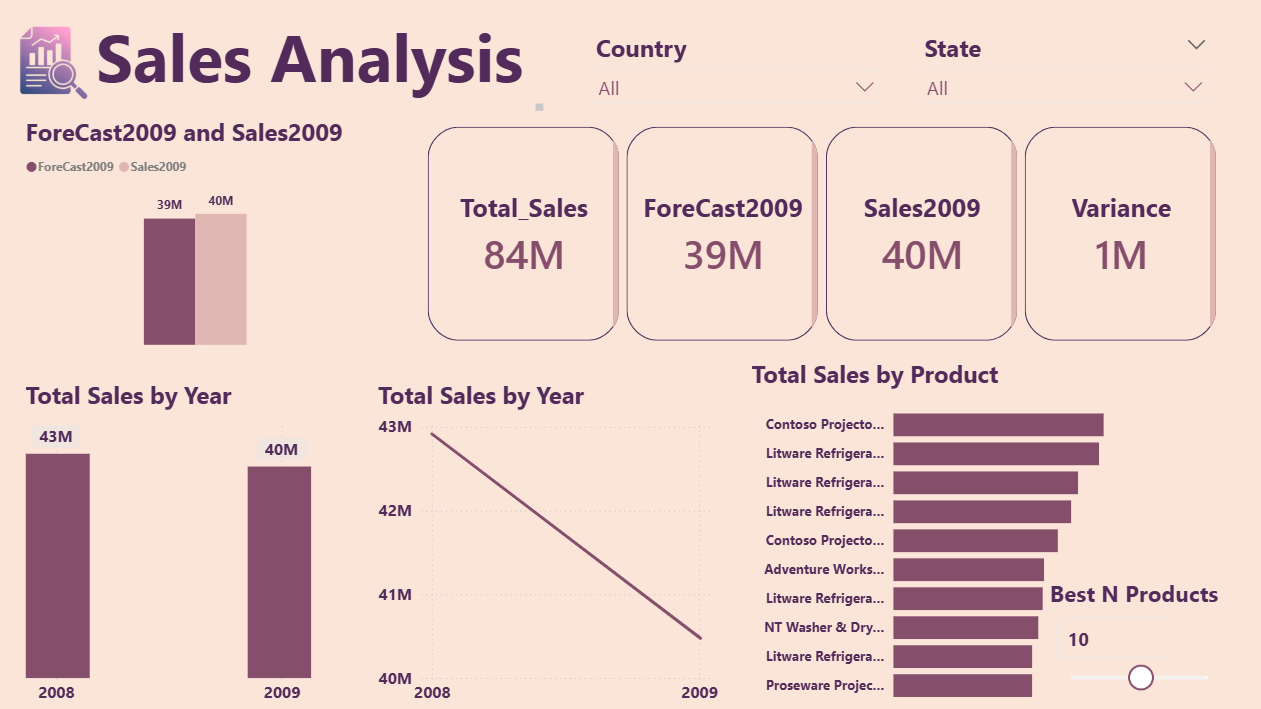

What the dashboard file says about the page in this screenshot:
{"tool":"powerbi","page":{"name":"Dashboard","canvas":[1280,720],"ordinal":0},"visuals":[{"type":"clusteredColumnChart","title":"Total Sales by Year","fields":{"Category":["Date.Date.Variation.Date Hierarchy.Year","Date.Date.Variation.Date Hierarchy.Quarter","Date.Date.Variation.Date Hierarchy.Month","Date.Date.Variation.Date Hierarchy.Day"],"Y":["_Measure.Total_Sales"]},"box":[25.7,381.4,298.6,338.6],"z":0},{"type":"barChart","title":"Total Sales by Product","fields":{"Y":["_Measure.TopNProducts"],"Category":["Products.Product Name"]},"box":[758.6,360,378.6,360],"z":1000},{"type":"slicer","title":"Best N Products","fields":{"Values":["BestNProducts.BestNProducts"]},"box":[1060,582.9,185.7,137.1],"z":2000},{"type":"lineClusteredColumnComboChart","fields":{"Y":["_Measure.ForeCast2009","_Measure.Sales2009"]},"box":[25.7,117.1,355.7,237.1],"z":3000},{"type":"lineChart","title":"Total Sales by Year","fields":{"Category":["Date.Date.Variation.Date Hierarchy.Year","Date.Date.Variation.Date Hierarchy.Quarter","Date.Date.Variation.Date Hierarchy.Month","Date.Date.Variation.Date Hierarchy.Day"],"Y":["_Measure.Total_Sales"]},"box":[381.4,381.4,354.3,338.6],"z":4000},{"type":"slicer","fields":{"Values":["Customers.CountryRegion"]},"box":[594.3,25.7,309.6,89.1],"z":5000,"group":"g2"},{"type":"cardVisual","fields":{"Data":["_Measure.Total_Sales","_Measure.ForeCast2009","_Measure.Sales2009","_Measure.Variance"]},"box":[425.7,117.1,820,238.6],"z":5000},{"type":"textbox","title":"Sales Analysis","box":[96.7,10,461.7,106.7],"z":6000},{"type":"slicer","fields":{"Values":["Customers.State"]},"box":[926.1,25.7,309.6,91.4],"z":6000,"group":"g2"},{"type":"image","box":[0,25,118.3,75],"z":7000},{"type":"group","id":"g1","title":"Group 1","box":[594.3,25.7,641.4,91.4],"z":8000},{"type":"group","id":"g2","title":"Group 2","box":[594.3,25.7,641.4,91.4],"z":8001,"group":"g1"}]}

Visuals, with their boxes in screenshot pixels (x1, y1, x2, y2), scaled from the page's 1280x720 canvas onto the 1261x709 screenshot:
"Total Sales by Year" clusteredColumnChart: box=[25, 376, 319, 708]
"Total Sales by Product" barChart: box=[747, 354, 1120, 708]
"Best N Products" slicer: box=[1044, 574, 1227, 708]
lineClusteredColumnComboChart - _Measure.ForeCast2009 x _Measure.Sales2009: box=[25, 115, 376, 349]
"Total Sales by Year" lineChart: box=[376, 376, 725, 708]
slicer - Customers.CountryRegion: box=[585, 25, 890, 113]
cardVisual - _Measure.Total_Sales x _Measure.ForeCast2009: box=[419, 115, 1227, 350]
"Sales Analysis" textbox: box=[95, 10, 550, 115]
slicer - Customers.State: box=[912, 25, 1217, 115]
image: box=[0, 25, 117, 98]
"Group 1" group: box=[585, 25, 1217, 115]
"Group 2" group: box=[585, 25, 1217, 115]
